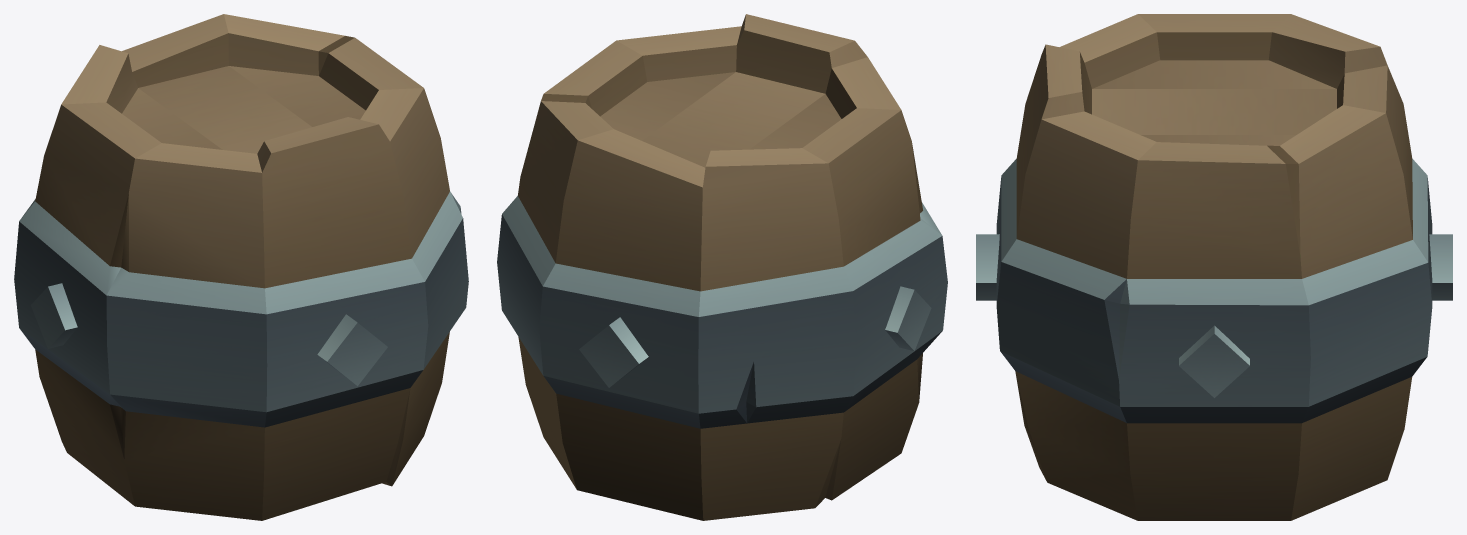
The model's file is barrel.fbx.
3 renders of one model, left to right at view 1: azimuth 30°, elevation 25°; view 2: azimuth 150°, elevation 25°; view 3: azimuth 270°, elevation 25°, orthographic. The views are drawn at different scales.
Parts seen in each view (by area): view 1: barrel; view 2: barrel; view 3: barrel.
Part boxes in pixels (<box>): barrel: <box>14,14,468,520</box>; barrel: <box>497,14,947,520</box>; barrel: <box>976,14,1452,520</box>.
Bounding box in the file's own units: 1.17 × 1.05 × 1.2.
